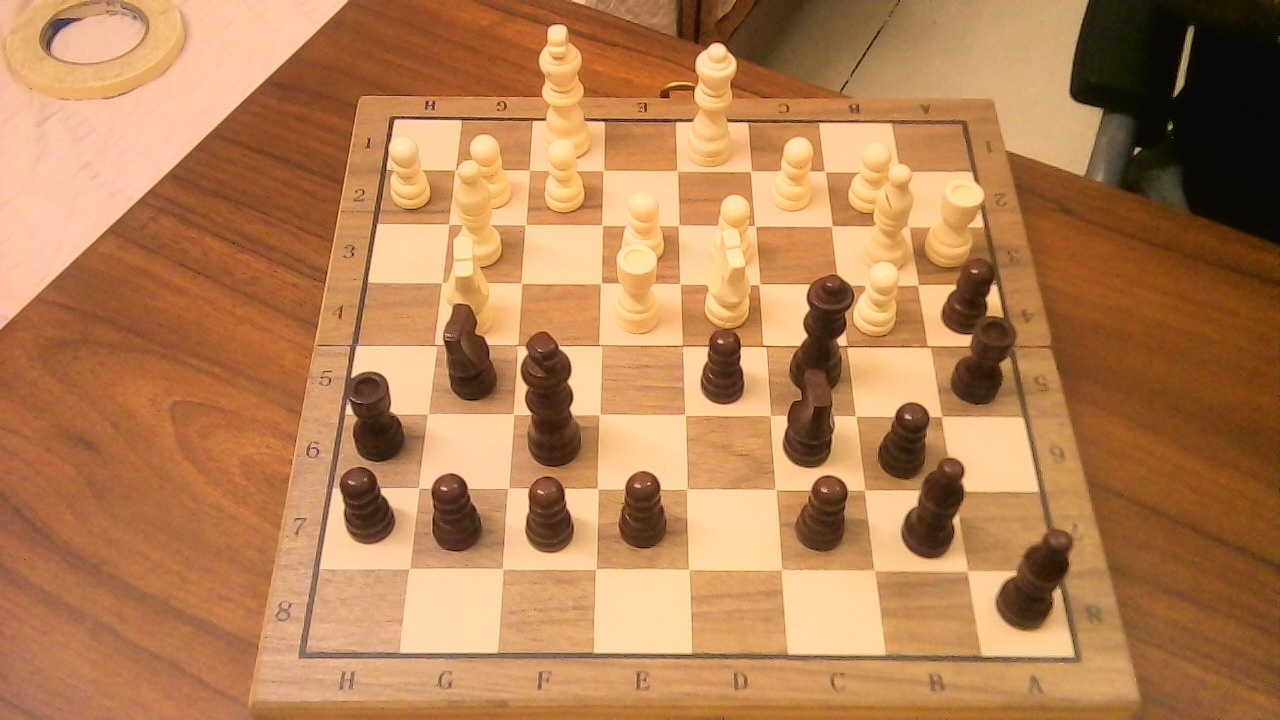B: (448, 148, 513, 271), (859, 153, 923, 274)
K: (534, 13, 598, 162)
N: (692, 238, 759, 328), (454, 232, 499, 315)
P: (609, 181, 671, 279), (764, 127, 823, 216), (459, 126, 518, 213), (535, 129, 591, 216), (382, 129, 437, 211), (857, 252, 907, 341), (705, 187, 758, 266), (848, 150, 895, 215)
Q: (682, 30, 745, 169)
R: (920, 169, 991, 272), (606, 232, 669, 340)
b: (989, 514, 1085, 636), (920, 444, 979, 564)
k: (517, 321, 594, 469)
n: (436, 288, 508, 404), (777, 384, 856, 471)
p: (332, 456, 405, 547), (789, 463, 860, 555), (936, 246, 1006, 338), (880, 400, 942, 480), (618, 470, 668, 550), (432, 473, 482, 552), (522, 477, 576, 550), (700, 330, 745, 405)
q: (779, 261, 861, 393)
r: (945, 305, 1026, 408), (342, 359, 415, 463)
